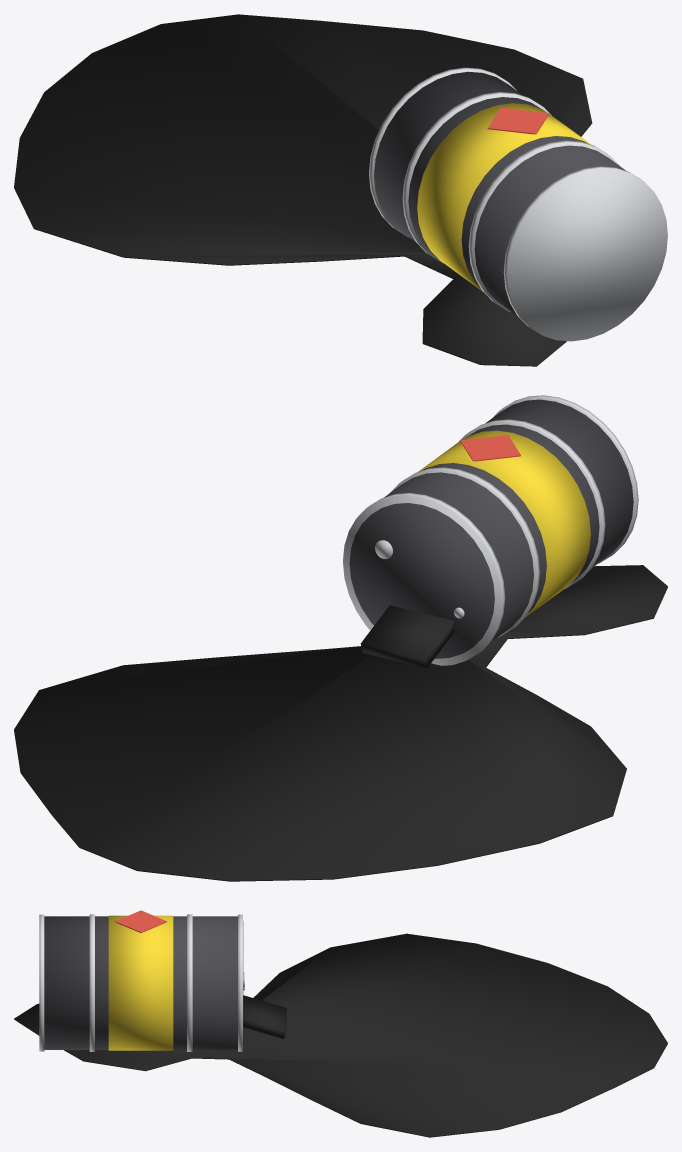
File: oilpuddle.fbx
3 renders of one model, top to bottom at view 1: azimuth 30°, elevation 25°; view 2: azimuth 150°, elevation 25°; view 3: azimuth 270°, elevation 25°, orthographic. The views are drawn at different scales.
Parts seen in each view (by area): view 1: Hazard_Oil_Puddle, Hazard_Overturned_Chemical_Drum; view 2: Hazard_Oil_Puddle, Hazard_Overturned_Chemical_Drum; view 3: Hazard_Oil_Puddle, Hazard_Overturned_Chemical_Drum.
Part boxes in pixels (x1,y1,x2,y2): Hazard_Oil_Puddle: (14,14,592,366); Hazard_Overturned_Chemical_Drum: (369,67,667,341); Hazard_Oil_Puddle: (14,565,667,881); Hazard_Overturned_Chemical_Drum: (343,395,638,668); Hazard_Oil_Puddle: (14,933,667,1137); Hazard_Overturned_Chemical_Drum: (39,910,286,1051).
Bounding box in the file's own units: 208 × 59.6 × 283.
